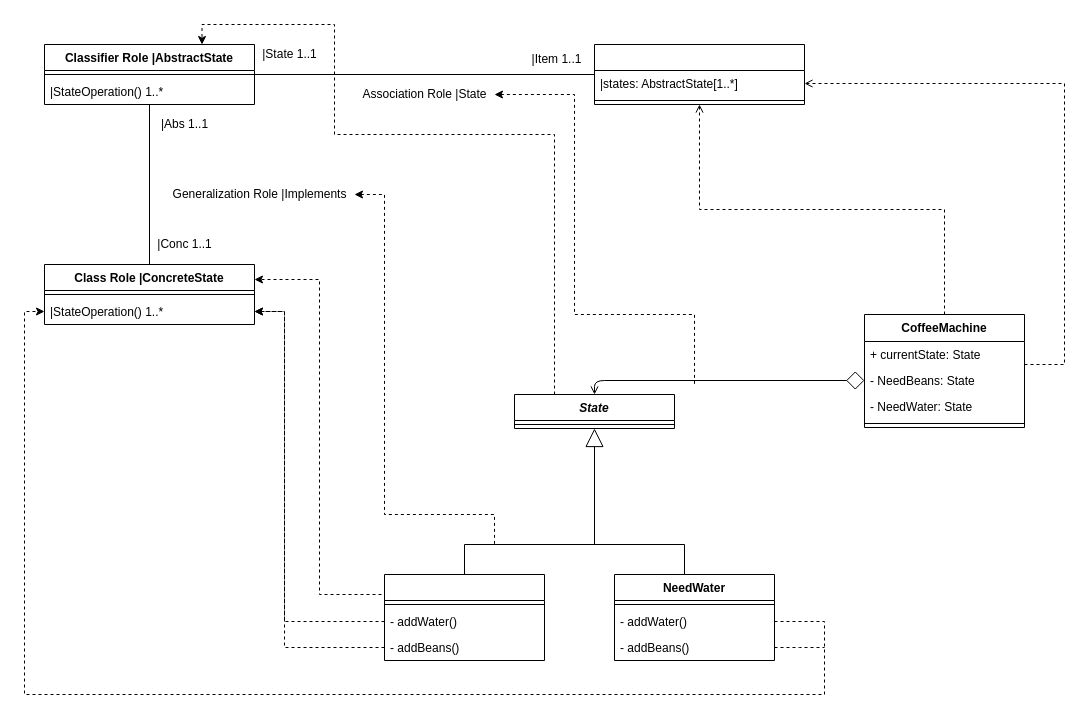
Image size: 1090x720. Some labels were removed from this diagram. The box of each missing label's shape, as (x1, y1, x2, y2) in pixels:
Class Role |Item: (594, 44, 804, 104)
NeedBeans: (384, 574, 544, 660)
